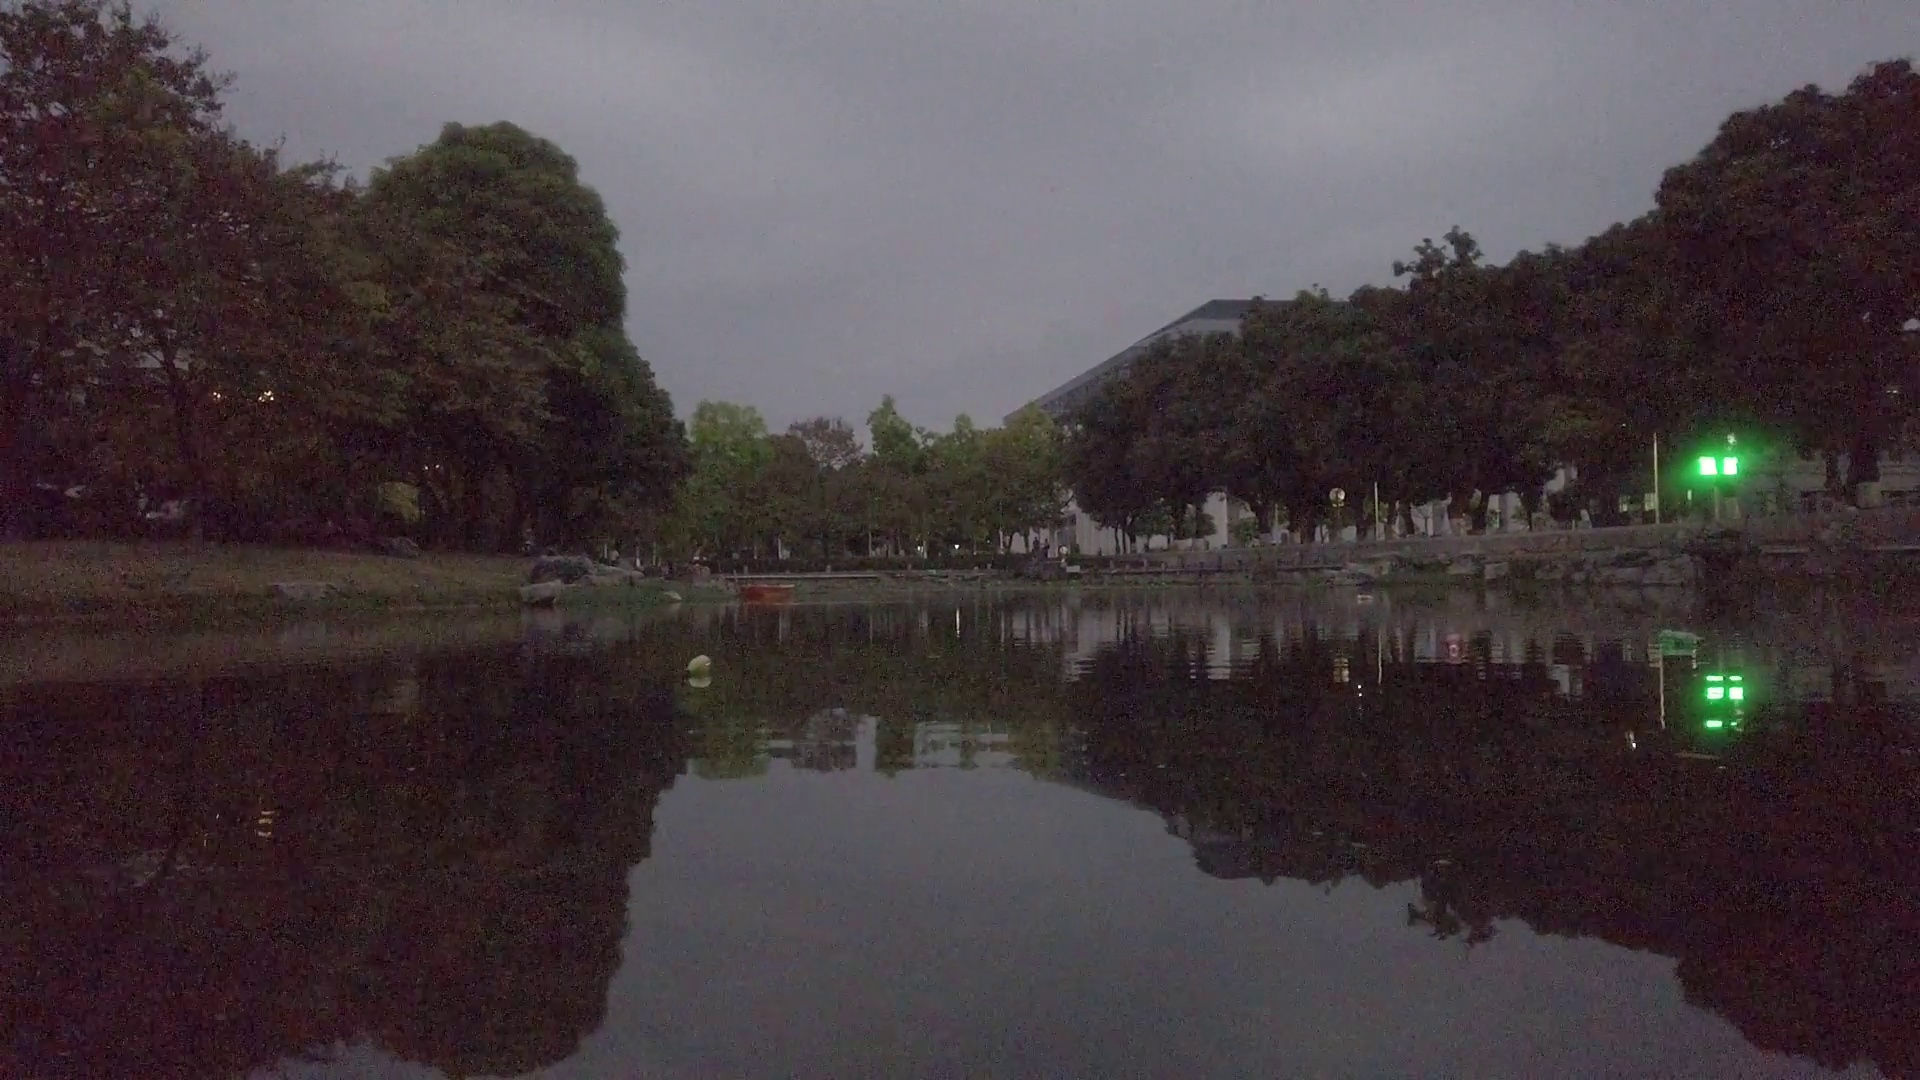bottle: (1660, 628, 1702, 645), (1445, 630, 1465, 659), (686, 654, 709, 676), (1356, 593, 1373, 601)
